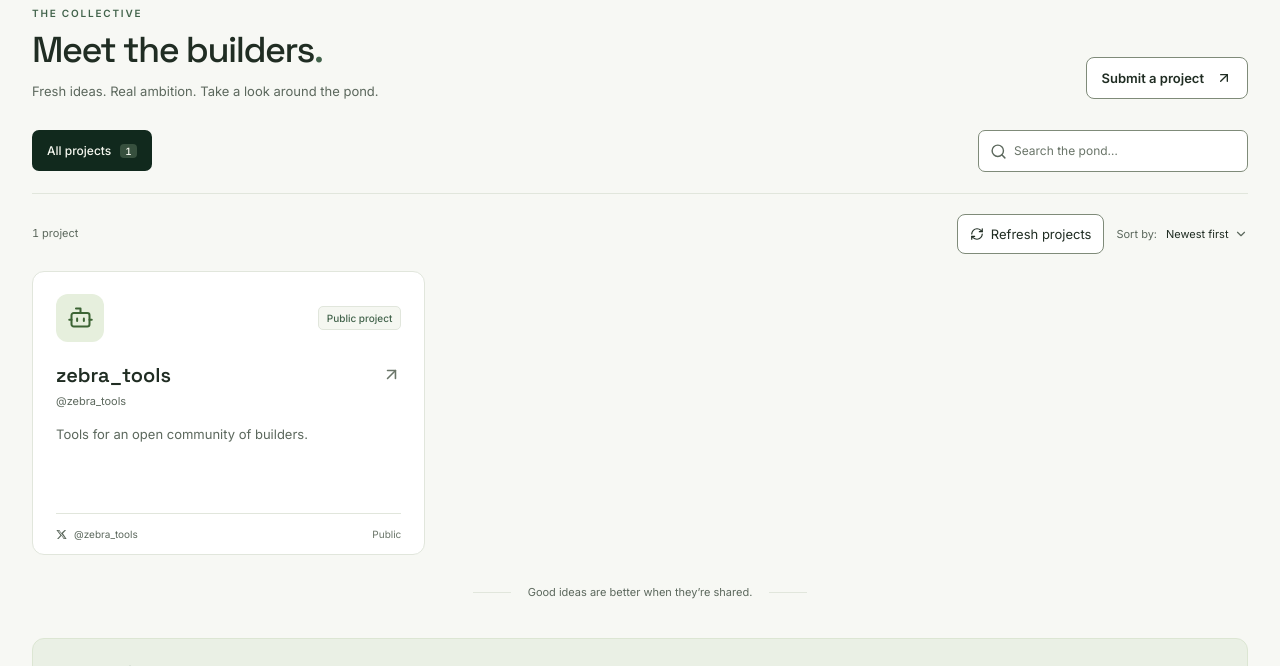
it: public project directory › shows a project contact and no empty personal Twitter link when personal Twitter is omitted
(page scrolled)
Click the button "zebra_tools" at [114, 375], box [56,360,401,390]
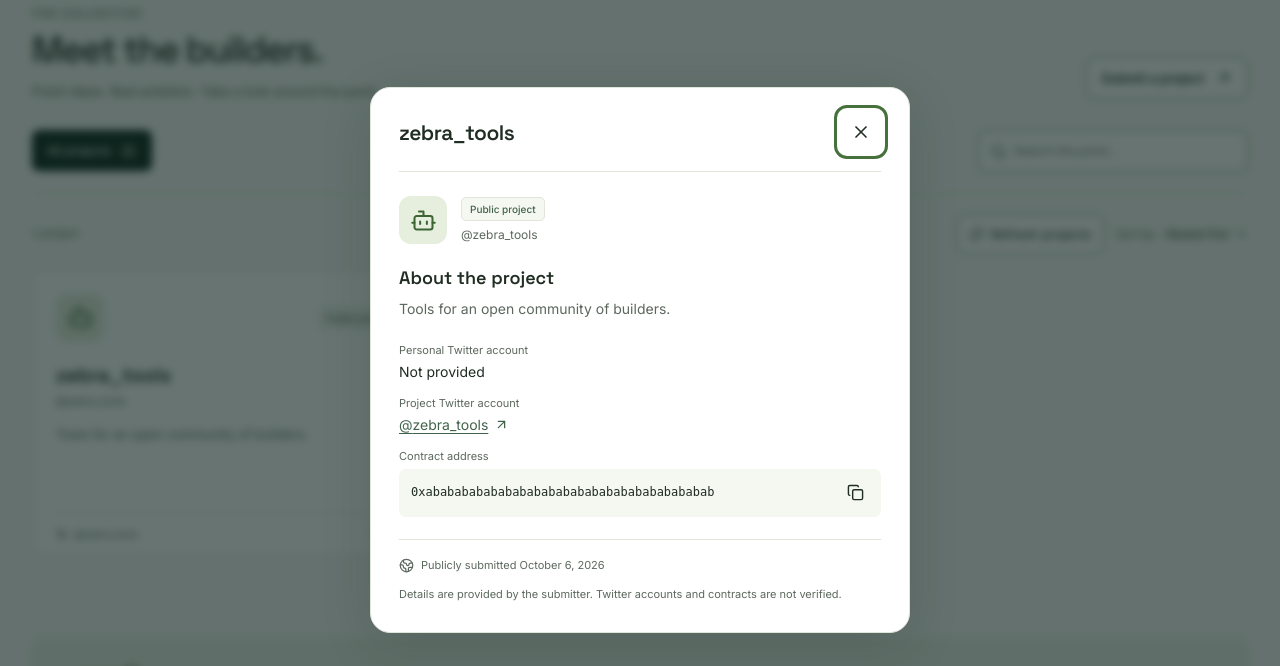
Now the text "Not provided" is shown, box [399,363,485,380]
